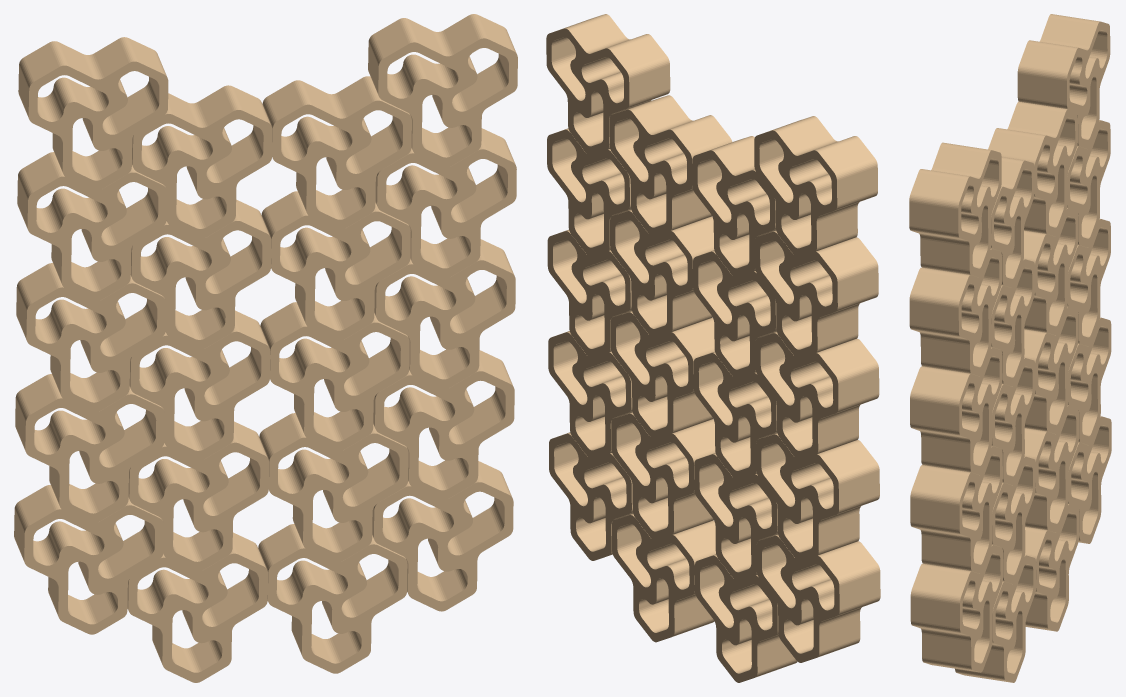
Rendered from wall.glb.
3 renders of one model, left to right at view 1: azimuth 30°, elevation 25°; view 2: azimuth 150°, elevation 25°; view 3: azimuth 270°, elevation 25°, orthographic. The views are drawn at different scales.
Visible parts, largest first — view 1: Extrusion project V1 wall.stl; view 2: Extrusion project V1 wall.stl; view 3: Extrusion project V1 wall.stl.
Part boxes in pixels (bbox=[...]): Extrusion project V1 wall.stl: bbox=[14, 14, 517, 682]; Extrusion project V1 wall.stl: bbox=[546, 14, 880, 682]; Extrusion project V1 wall.stl: bbox=[909, 14, 1111, 682].
Bounding box in the file's own units: 0.1425 × 0.2012 × 0.0658.
